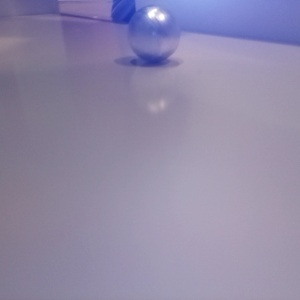alive_ball: (7, 10, 46, 48)
